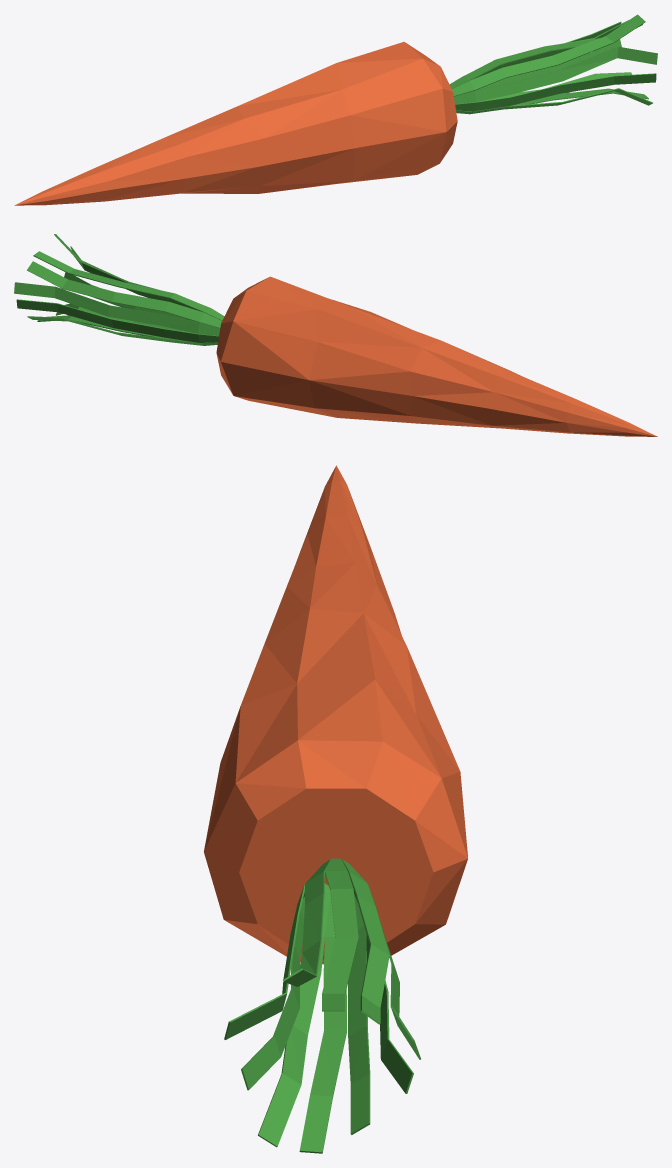
The model's file is Carrot.fbx.
The picture shows the model from 3 angles, top to bottom: view 1: azimuth 30°, elevation 25°; view 2: azimuth 150°, elevation 25°; view 3: azimuth 270°, elevation 25°; orthographic projection. The views are drawn at different scales.
Parts seen in each view (by area): view 1: Cone, Cylinder.002, Cylinder.001, Cylinder.003, Cylinder.010, Cylinder.007, Cylinder.004, Cylinder.008, Cylinder.005, Cylinder.006; view 2: Cone, Cylinder.008, Cylinder.009, Cylinder.007, Cylinder.010, Cylinder.006, Cylinder.002, Cylinder.003, Cylinder.005, Cylinder.004; view 3: Cone, Cylinder.005, Cylinder.004, Cylinder.006, Cylinder.010, Cylinder.009, Cylinder.003, Cylinder.001, Cylinder.002, Cylinder.007.
Part boxes in pixels (x1,y1,x2,y2): Cone: (14,42,457,205); Cylinder.002: (454,46,657,104); Cylinder.001: (452,14,645,96); Cylinder.003: (455,73,656,111); Cylinder.010: (450,24,642,88); Cylinder.007: (475,39,621,90); Cylinder.004: (456,88,652,114); Cylinder.008: (474,21,621,78); Cylinder.005: (512,88,648,105); Cylinder.006: (481,72,631,101); Cone: (216,276,657,436); Cylinder.008: (14,282,220,335); Cylinder.009: (27,261,221,327); Cylinder.007: (16,299,218,342); Cylinder.010: (33,251,224,320); Cylinder.006: (27,316,217,345); Cylinder.002: (70,246,198,310); Cylinder.003: (64,272,198,322); Cylinder.005: (37,315,182,340); Cylinder.004: (56,303,194,333); Cone: (204,465,467,964); Cylinder.005: (299,894,346,1153); Cylinder.004: (258,883,330,1147); Cylinder.006: (348,894,370,1134); Cylinder.010: (322,858,358,1011); Cylinder.009: (341,859,389,1024); Cylinder.003: (241,896,304,1090); Cylinder.001: (283,859,330,986); Cylinder.002: (224,884,304,1039); Cylinder.007: (353,890,413,1093).
Size of the model in its own units: 74.15 by 12.99 by 13.6.
